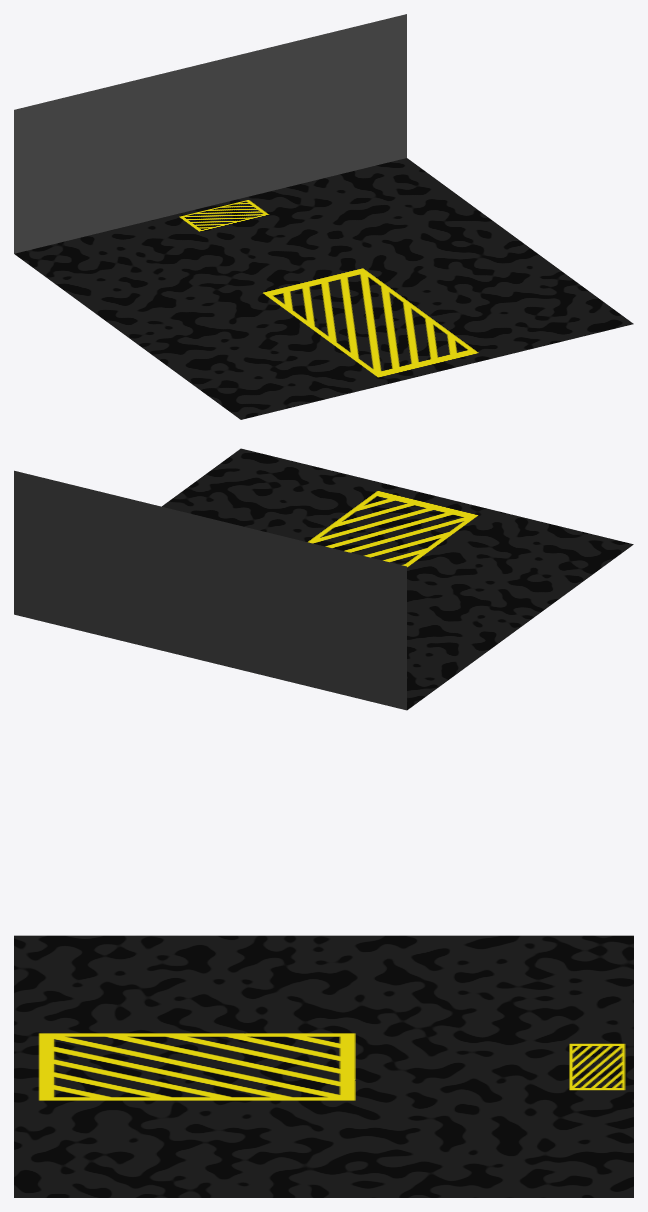
The model's file is roomLoadingBayMain.fbx.
3 renders of one model, top to bottom at view 1: azimuth 30°, elevation 25°; view 2: azimuth 150°, elevation 25°; view 3: azimuth 270°, elevation 25°, orthographic. The views are drawn at different scales.
Visible parts, largest first — view 1: Floor; view 2: Floor; view 3: Floor.
Part boxes in pixels (left/top/right/bottom): Floor: left=14, top=14, right=633, bottom=419; Floor: left=14, top=448, right=633, bottom=710; Floor: left=14, top=935, right=633, bottom=1197.
Size of the model in its own units: 1000 by 350 by 1000.
Materials: 2 (1 with a texture image).
